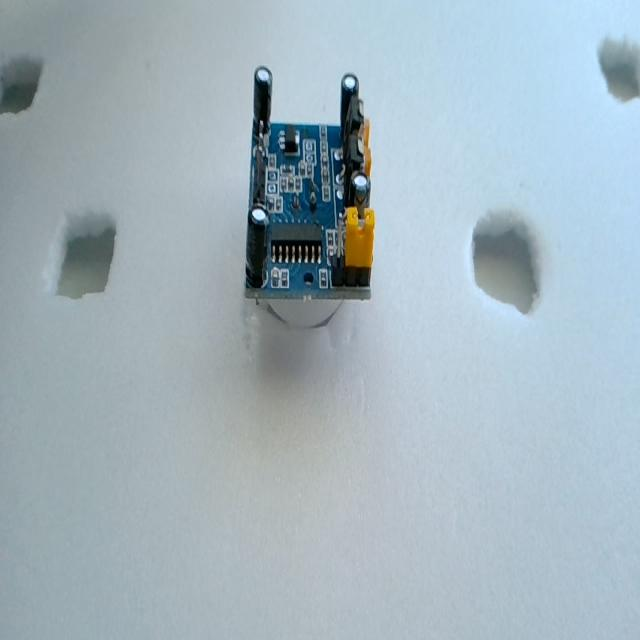Electrolytic capacitor: (245, 208, 268, 283), (349, 166, 375, 220), (340, 72, 360, 138), (253, 66, 273, 130)
IC: (269, 226, 323, 267)
pinheader: (249, 65, 273, 208)
